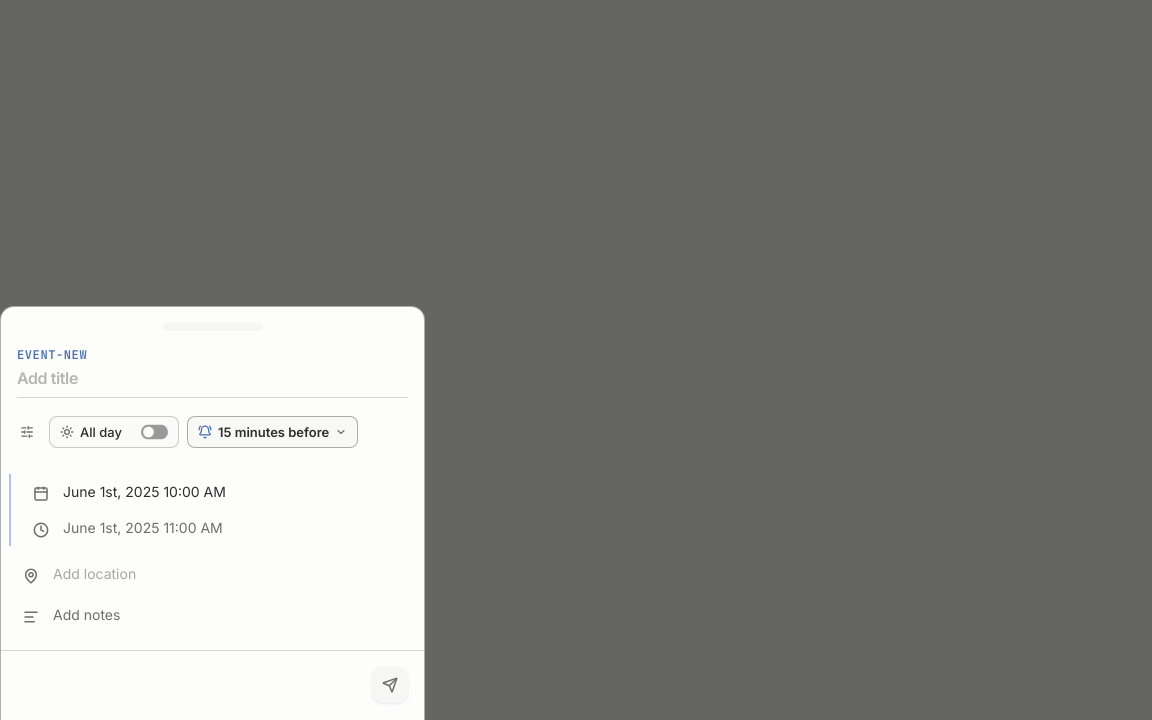
CreateEventDialog — event reminder control › offers the timed presets plus none
Click the button with aria-label "Reminder": coordinates (273, 432) [187, 416, 358, 448]
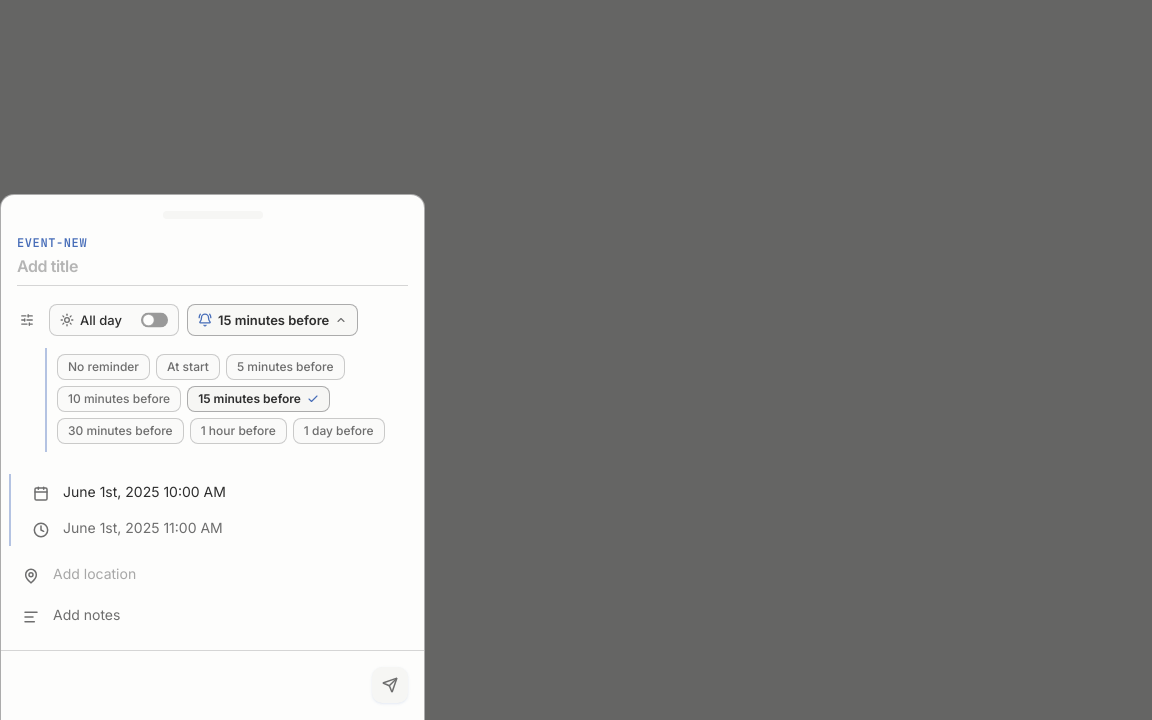
Now the button with aria-label "Reminder" is expanded, box [187, 304, 358, 336]
